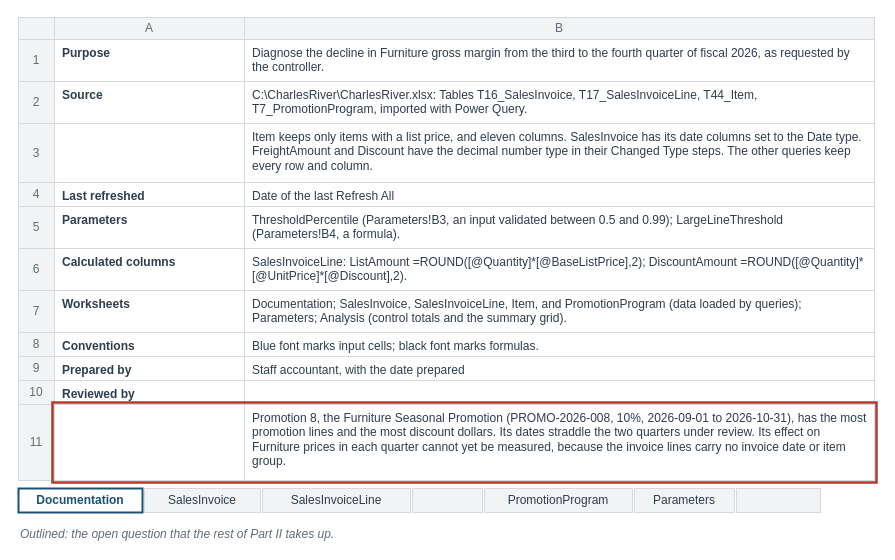
This 895x560 diagram has some shape labels left out. The centre of each missing label's shape, as x and y in pixels:
"Analysis" goes at (778,500).
"Item" goes at (447,500).
"Open questions" goes at (149,442).
"Query steps" goes at (149,152).
